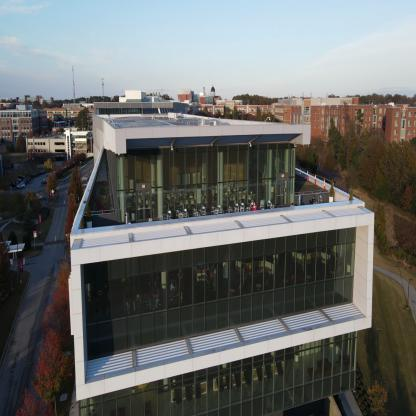Hunt Library: (51, 72, 384, 416)
